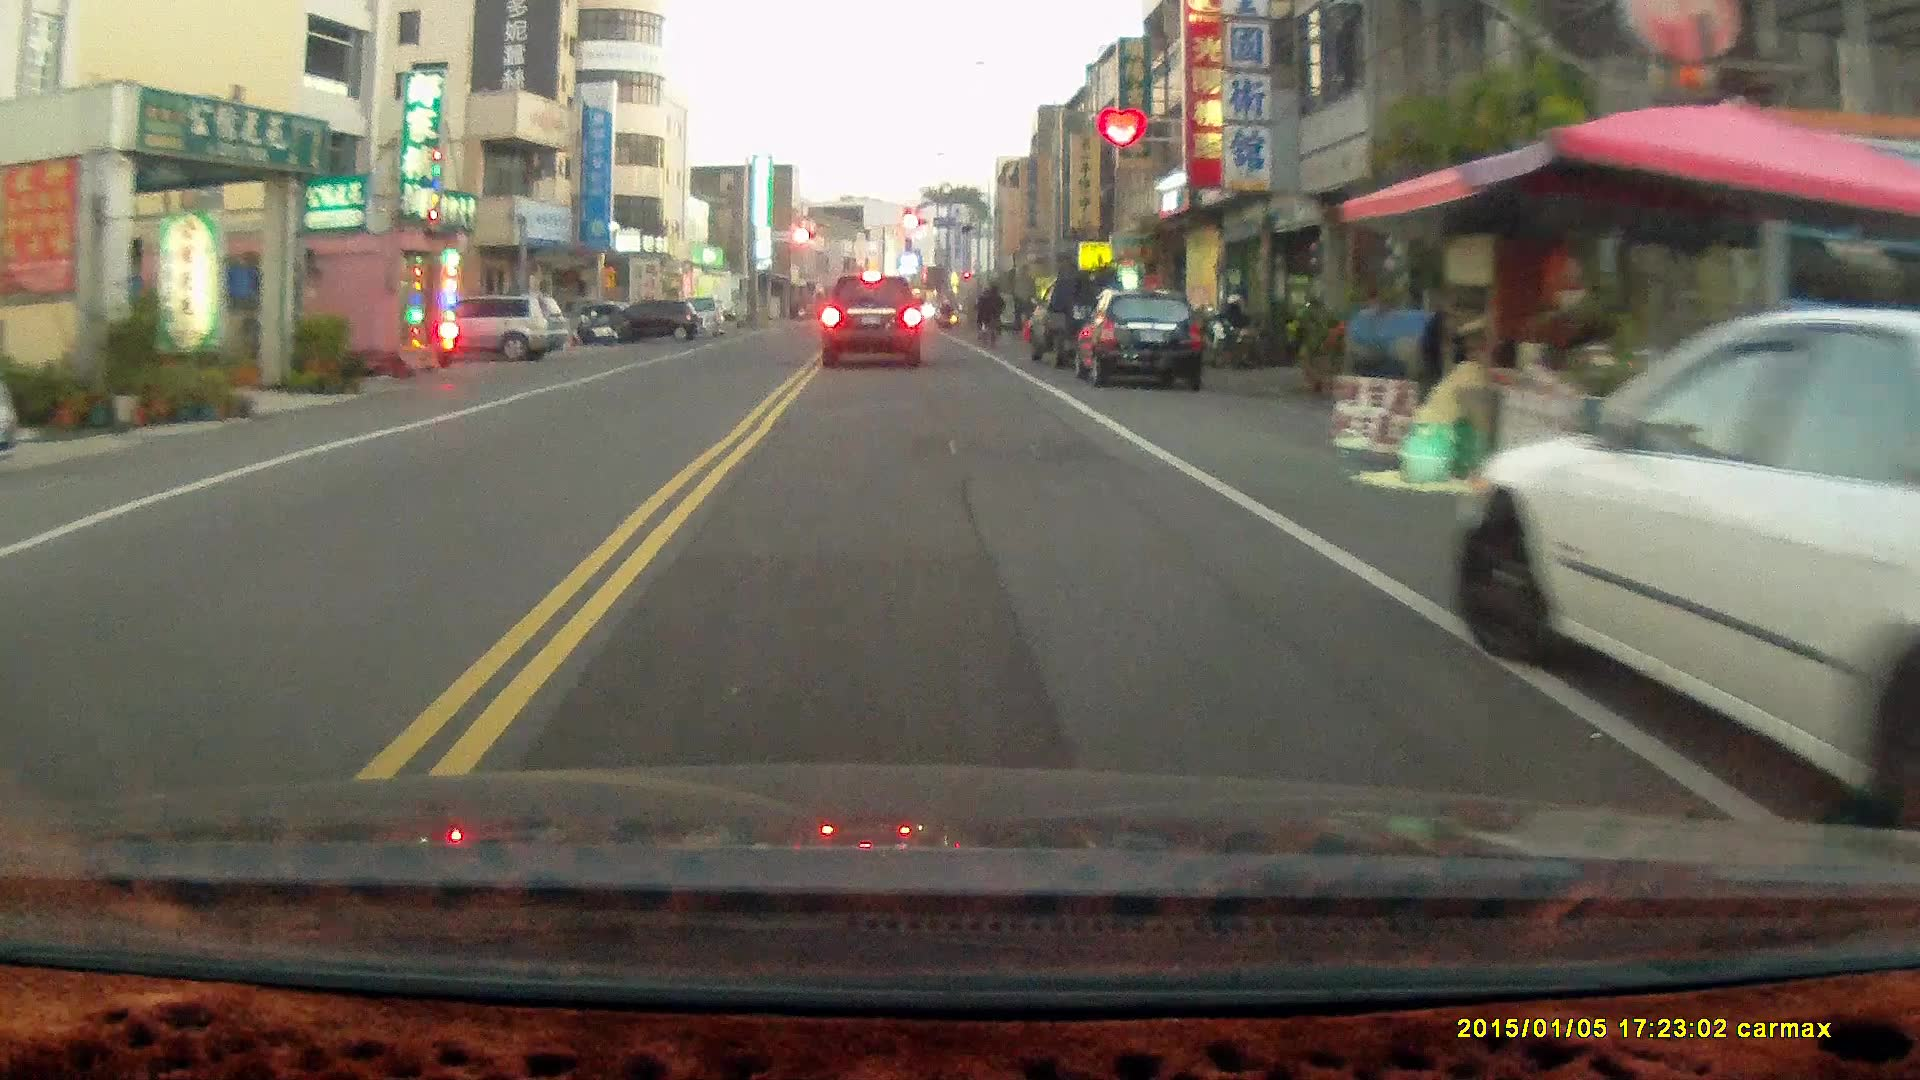rider: (975, 279, 1005, 349)
vehicle: (1468, 293, 1920, 823), (1076, 284, 1211, 391), (401, 298, 569, 368), (818, 271, 924, 371), (589, 297, 701, 346)
